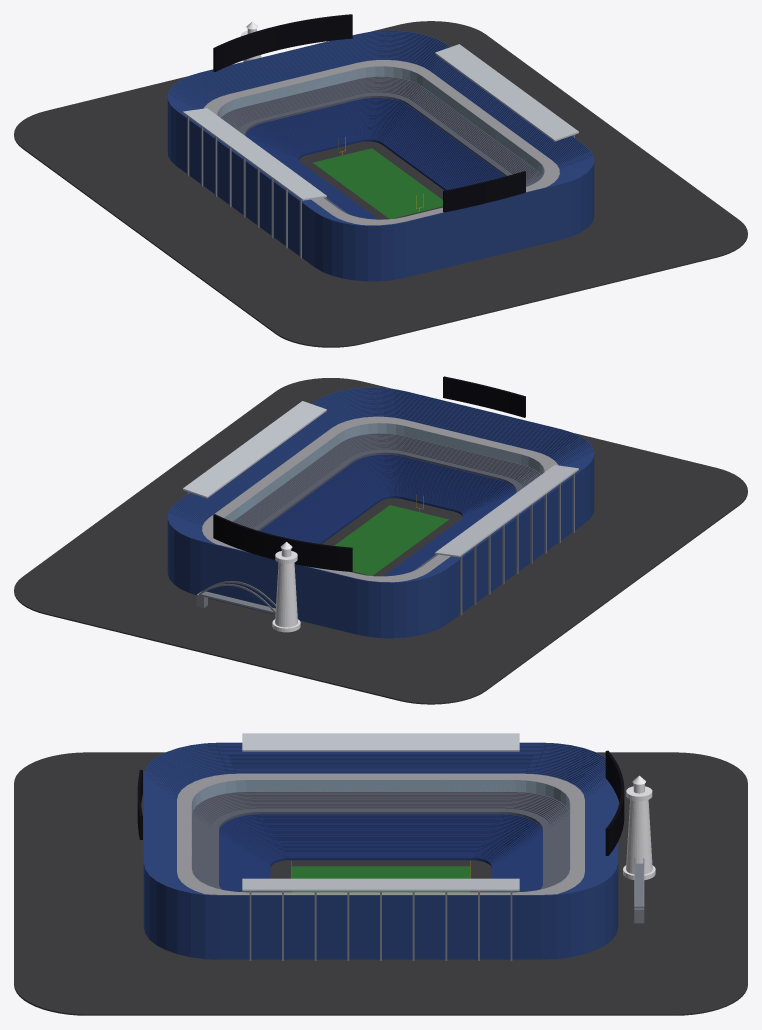
Rendered from gillette_stadium.obj.
3 views of the same model, one above another, from view 1: azimuth 30°, elevation 25°; view 2: azimuth 150°, elevation 25°; view 3: azimuth 270°, elevation 25° (orthographic). The views are drawn at different scales.
Parts seen in each view (by area): view 1: ground, upper_deck_300, lower_bowl_100, suite_block, club_level_200, roof_canopy, playing_field, video_board_north, suite_glazing, video_board_south, roof_columns; view 2: ground, upper_deck_300, lower_bowl_100, suite_block, club_level_200, roof_canopy, playing_field, suite_glazing, video_board_north, video_board_south, lighthouse, roof_columns (+1 smaller); view 3: ground, upper_deck_300, lower_bowl_100, club_level_200, suite_block, roof_canopy, suite_glazing, playing_field, lighthouse, roof_columns, video_board_north, bridge.
Boxes of the visible parts, <box> form: ground: <box>14,21,747,347</box>; upper_deck_300: <box>167,30,594,281</box>; lower_bowl_100: <box>245,97,504,219</box>; suite_block: <box>203,60,559,225</box>; club_level_200: <box>221,76,542,213</box>; roof_canopy: <box>183,44,578,200</box>; playing_field: <box>313,148,442,218</box>; video_board_north: <box>213,14,352,71</box>; suite_glazing: <box>217,66,544,219</box>; video_board_south: <box>443,171,525,212</box>; roof_columns: <box>187,116,574,258</box>; ground: <box>14,378,747,704</box>; upper_deck_300: <box>167,387,594,638</box>; lower_bowl_100: <box>260,454,516,576</box>; suite_block: <box>202,416,557,582</box>; club_level_200: <box>232,433,541,570</box>; roof_canopy: <box>183,401,578,557</box>; playing_field: <box>334,505,448,575</box>; suite_glazing: <box>224,423,544,576</box>; video_board_north: <box>213,514,352,571</box>; video_board_south: <box>443,376,525,417</box>; lighthouse: <box>272,542,300,632</box>; roof_columns: <box>187,473,574,615</box>; ground: <box>14,752,747,1015</box>; upper_deck_300: <box>143,742,618,959</box>; lower_bowl_100: <box>219,814,542,892</box>; club_level_200: <box>191,791,570,889</box>; suite_block: <box>177,773,584,894</box>; roof_canopy: <box>242,733,519,891</box>; suite_glazing: <box>191,780,570,892</box>; playing_field: <box>291,866,470,892</box>; lighthouse: <box>623,775,655,880</box>; roof_columns: <box>249,891,512,960</box>; video_board_north: <box>605,750,624,855</box>; bridge: <box>634,858,644,923</box>.
Bounding box in the file's own units: 380 × 67.45 × 450.
